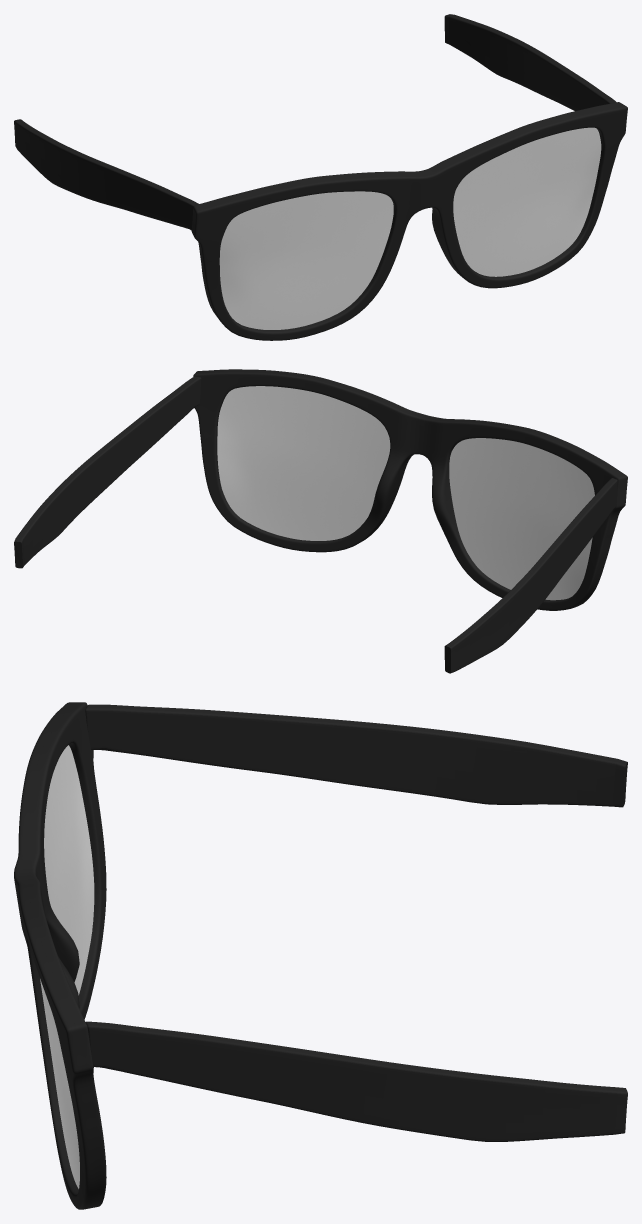
The model's file is Ennio_app.gltf.
3 renders of one model, top to bottom at view 1: azimuth 30°, elevation 25°; view 2: azimuth 150°, elevation 25°; view 3: azimuth 270°, elevation 25°, orthographic. The views are drawn at different scales.
Visible parts, largest first — view 1: Lentes, armacao; view 2: Lentes, armacao; view 3: armacao, Lentes.
Boxes of the visible parts, <box> form: Lentes: <box>219,127,601,329</box>; armacao: <box>14,14,627,340</box>; Lentes: <box>217,386,594,600</box>; armacao: <box>14,369,627,673</box>; armacao: <box>14,702,627,1209</box>; Lentes: <box>40,745,94,1188</box>.
Bounding box in the file's own units: 0.1613 × 0.0558 × 0.1214.
Materials: 2 (2 with a texture image).
